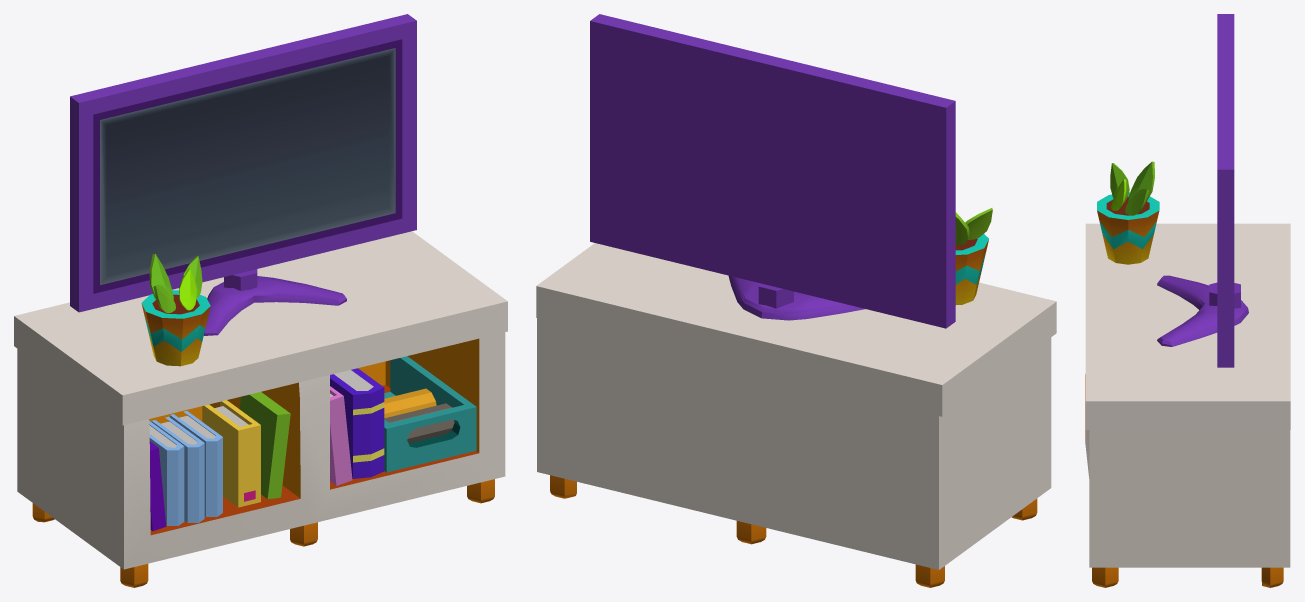
File: livingroom_tv.fbx
The picture shows the model from 3 angles, left to right: view 1: azimuth 30°, elevation 25°; view 2: azimuth 150°, elevation 25°; view 3: azimuth 270°, elevation 25°; orthographic projection. The views are drawn at different scales.
Visible parts, largest first — view 1: nordic_tv; view 2: nordic_tv; view 3: nordic_tv.
Boxes of the visible parts, x1,y1,x2,y2 form: nordic_tv: [14, 14, 507, 587]; nordic_tv: [536, 14, 1056, 587]; nordic_tv: [1085, 14, 1290, 587].
Size of the model in its own units: 1.5 by 1.62 by 0.731.
